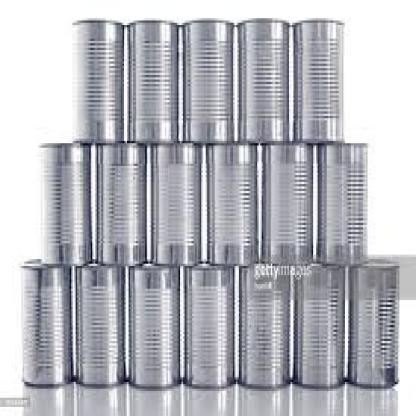METAL: (74, 261, 126, 389), (292, 259, 343, 389), (127, 264, 179, 391), (346, 257, 396, 389), (180, 18, 233, 141), (183, 264, 233, 393), (206, 138, 257, 264), (21, 259, 71, 387), (238, 264, 288, 391), (316, 141, 366, 266), (127, 18, 177, 141), (292, 20, 342, 141), (72, 20, 122, 141), (97, 138, 145, 264), (151, 141, 200, 264), (262, 138, 310, 262), (42, 138, 90, 262), (238, 20, 288, 136)
